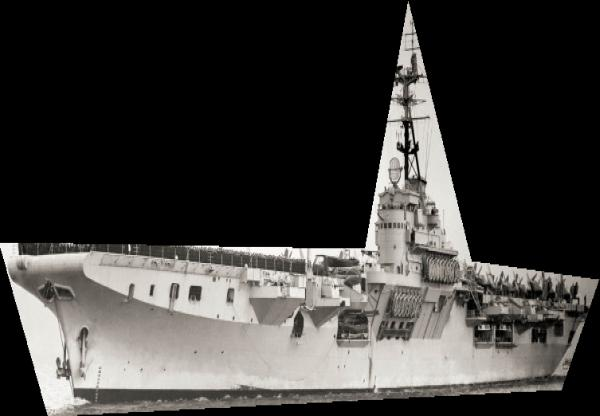Aircraft Carrier: (0, 1, 600, 416)
